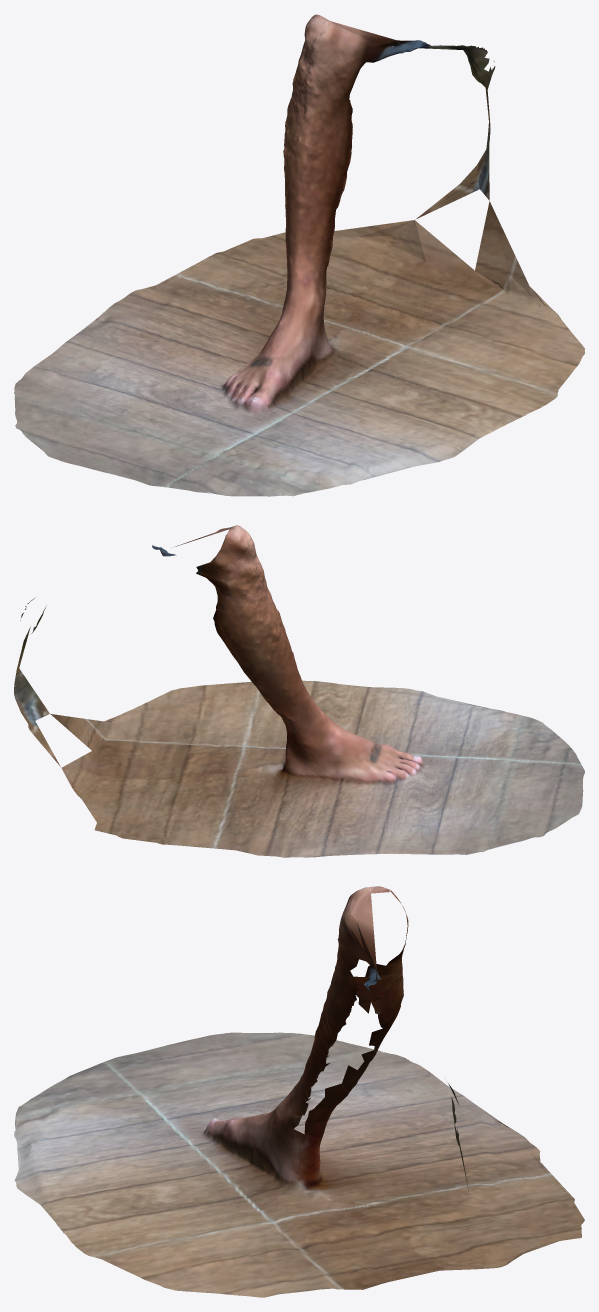
The model's file is Scaniverse 2023-10-17 181542.glb.
3 views of the same model, one above another, from view 1: azimuth 30°, elevation 25°; view 2: azimuth 150°, elevation 25°; view 3: azimuth 270°, elevation 25° (orthographic). The views are drawn at different scales.
Visible parts, largest first — view 1: mesh; view 2: mesh; view 3: mesh.
Boxes of the visible parts, x1,y1,x2,y2 form: mesh: (14, 14, 584, 496); mesh: (14, 525, 584, 857); mesh: (14, 886, 584, 1297).
Size of the model in its own units: 1.04 by 0.5473 by 0.8781.
Materials: 1 (1 with a texture image).
